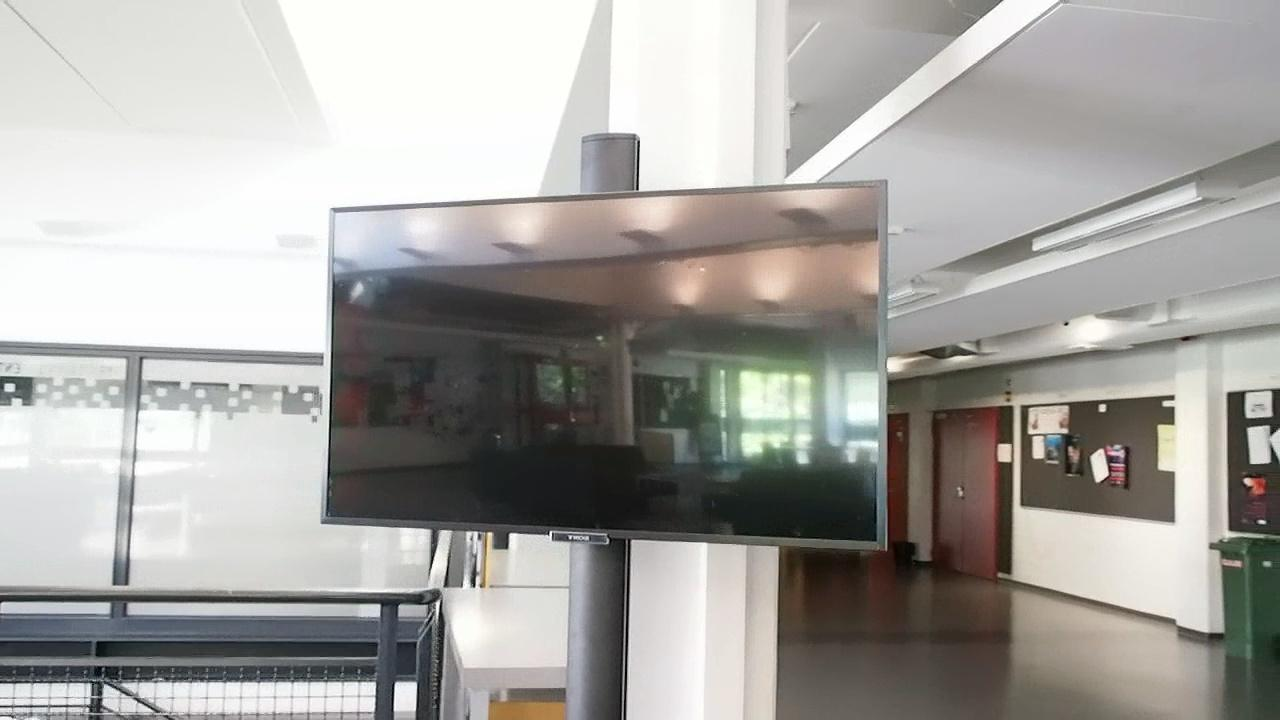screen: (314, 178, 894, 556)
